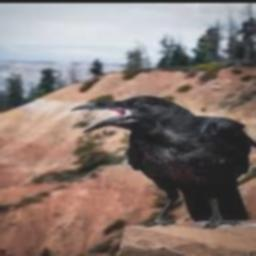Crow: (72, 95, 256, 220)
